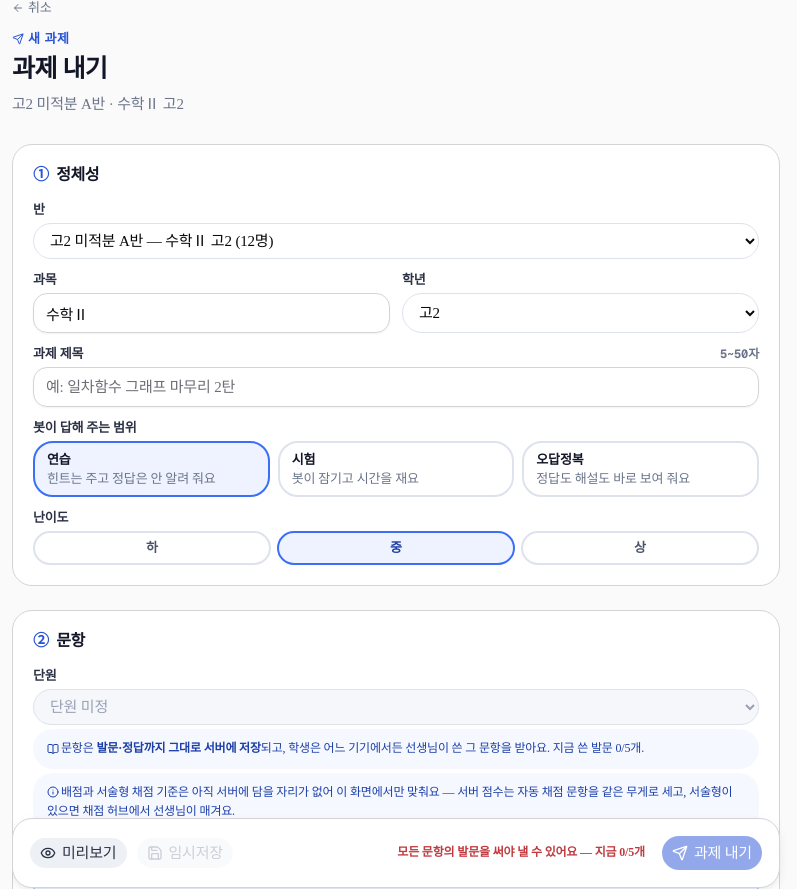
배점 합계가 100이 아니면 내기를 막고 이유를 보여 준다
Type "배점 규칙 확인 과제" into the field with test id "title-input" at (396, 387), box [33,367,759,407]
(page scrolled)
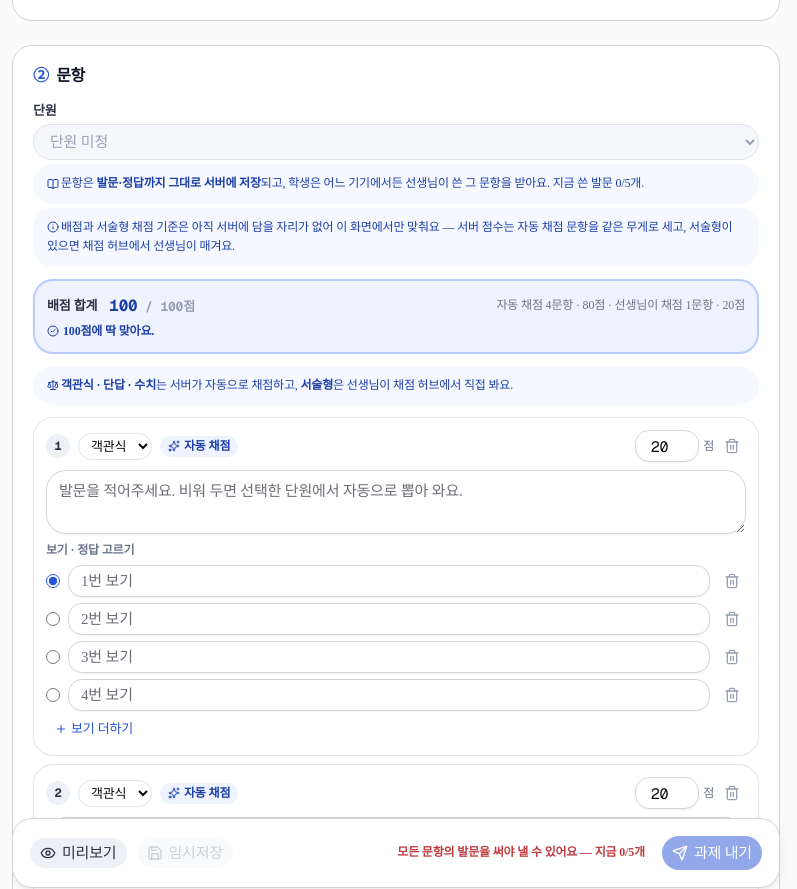
Replace the text in the number field with test id "question-points-0" with "10" at (667, 446), box [635,430,699,462]
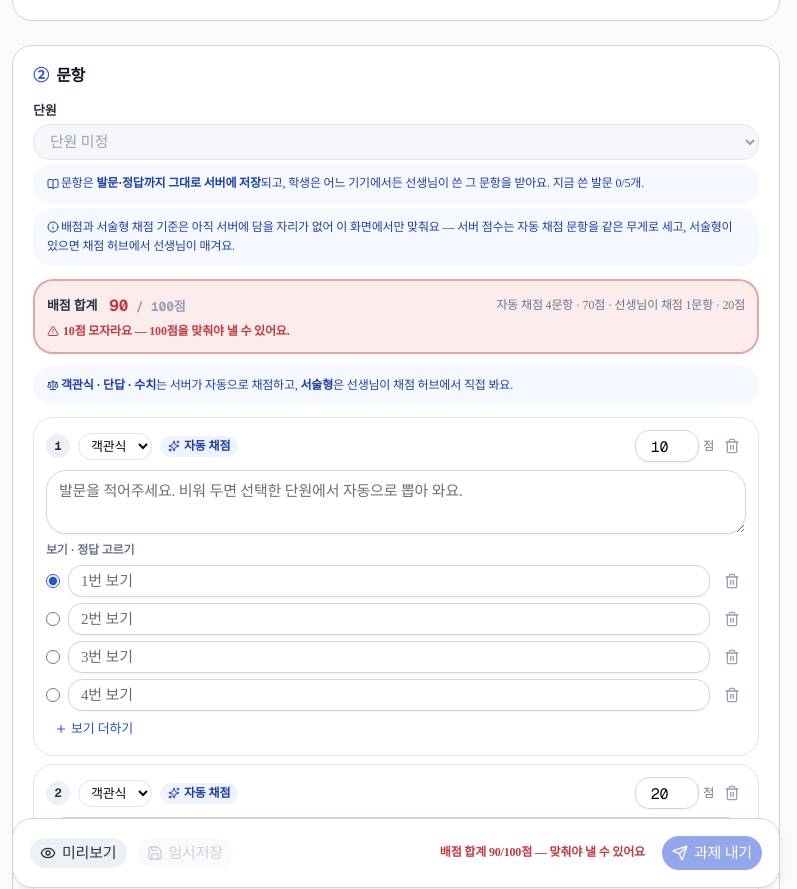
expect the button with test id "dispatch-btn" is disabled: met, box [661,835,763,871]
expect the text with test id "dispatch-blocked" shows "90/100점": met, box [440,846,645,860]
